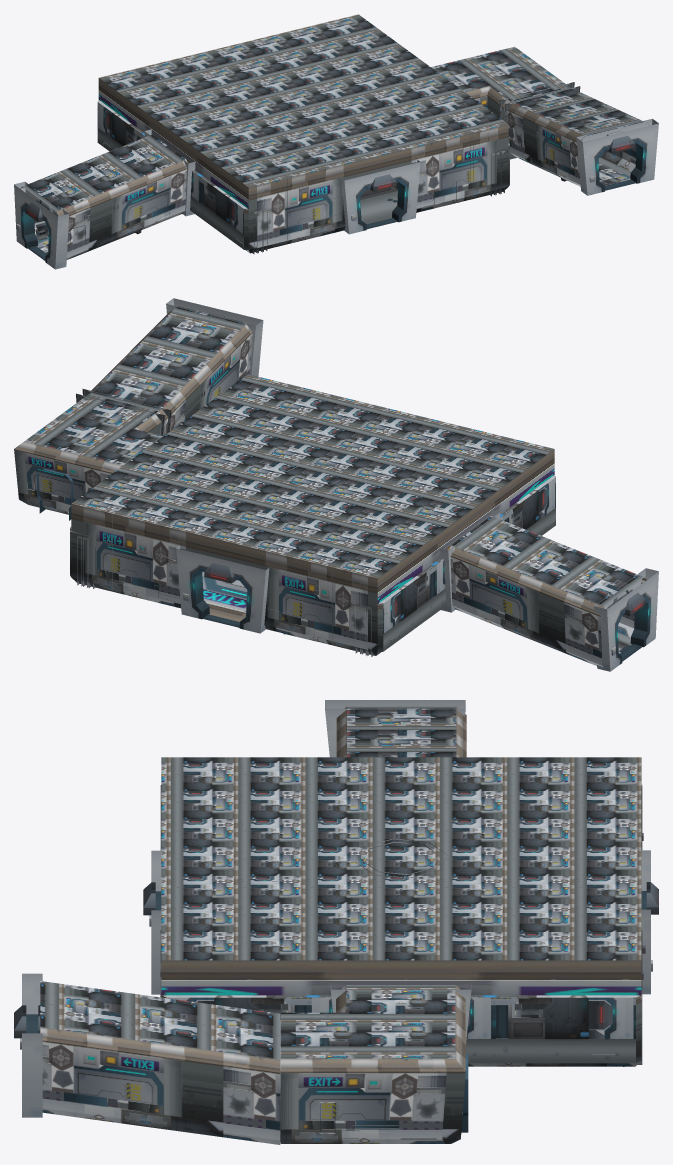
The model's file is Combined_Mesh_root_scene__12_ac3e1c64__ZombiesII_laboratory_04_d_1b2a1172_c1f257.obj.
3 renders of one model, top to bottom at view 1: azimuth 30°, elevation 25°; view 2: azimuth 150°, elevation 25°; view 3: azimuth 270°, elevation 25°, orthographic. The views are drawn at different scales.
Bounding box in the file's own units: 78.61 × 13.91 × 53.73.
Materials: 273 (273 with a texture image).
